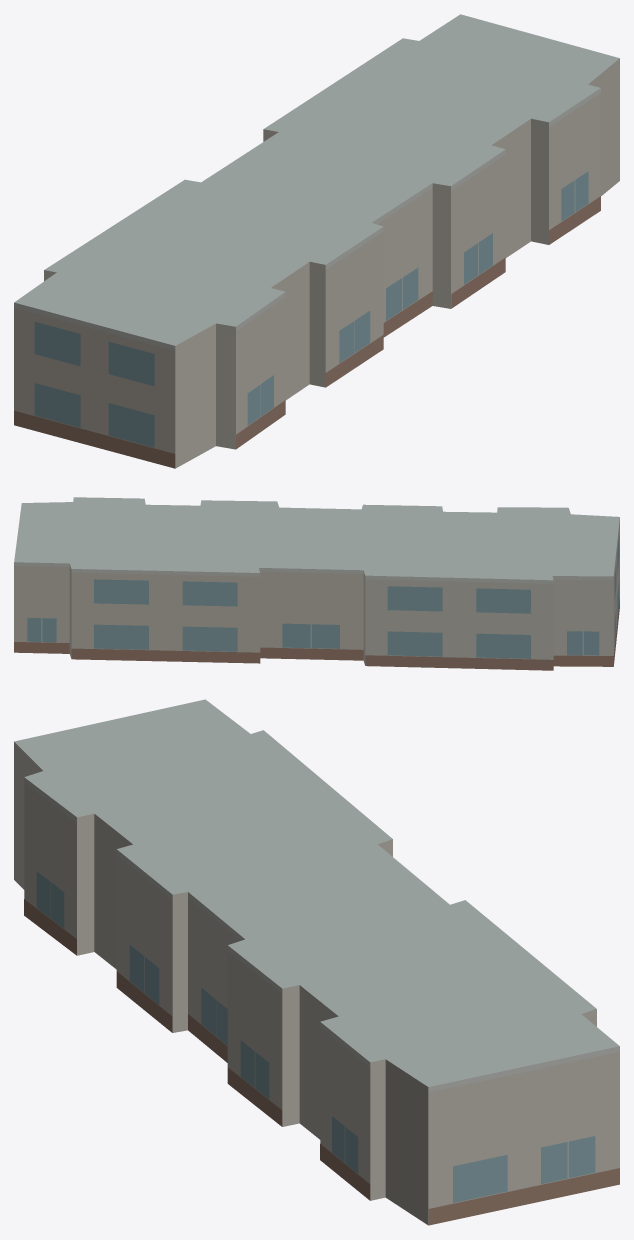
Rendered from survey-upis-32735162.glb.
3 renders of one model, top to bottom at view 1: azimuth 30°, elevation 25°; view 2: azimuth 150°, elevation 25°; view 3: azimuth 270°, elevation 25°, orthographic. The views are drawn at different scales.
Parts seen in each view (by area): view 1: survey-upis-32735162.tmp; view 2: survey-upis-32735162.tmp; view 3: survey-upis-32735162.tmp.
Boxes of the visible parts, left/top/right/bottom form: survey-upis-32735162.tmp: left=14, top=14, right=619, bottom=468; survey-upis-32735162.tmp: left=14, top=497, right=619, bottom=670; survey-upis-32735162.tmp: left=14, top=699, right=619, bottom=1225.
Bounding box in the file's own units: 36.66 × 6.1 × 24.21.
